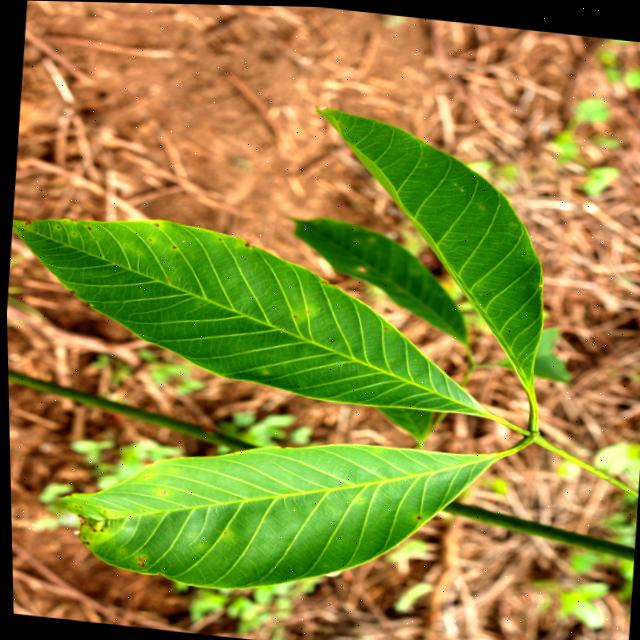Colletotrichum: (158, 489, 164, 492), (90, 527, 94, 530), (97, 527, 100, 529)
